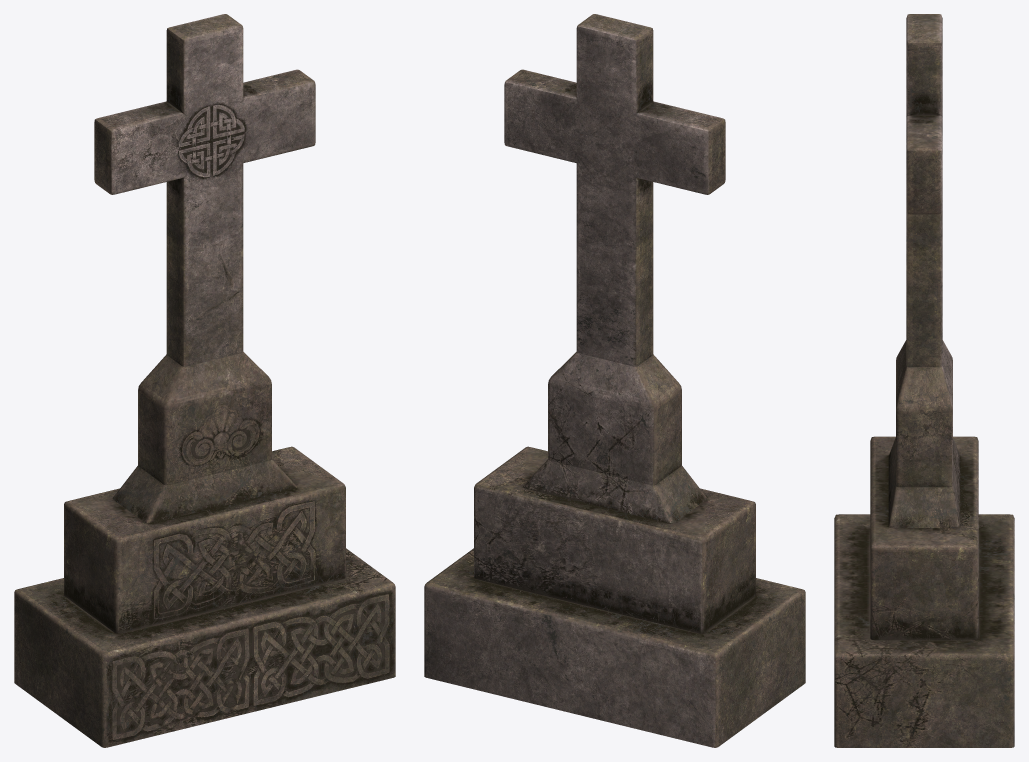
File: SM_gravestone_09.fbx
3 views of the same model, side by side, from view 1: azimuth 30°, elevation 25°; view 2: azimuth 150°, elevation 25°; view 3: azimuth 270°, elevation 25° (orthographic).
Visible parts, largest first — view 1: SM_gravestone_09; view 2: SM_gravestone_09; view 3: SM_gravestone_09.
Boxes of the visible parts, x1,y1,x2,y2 form: SM_gravestone_09: [14, 14, 395, 747]; SM_gravestone_09: [424, 14, 805, 747]; SM_gravestone_09: [834, 14, 1014, 747].
Size of the model in its own units: 66.83 by 142 by 35.78.
